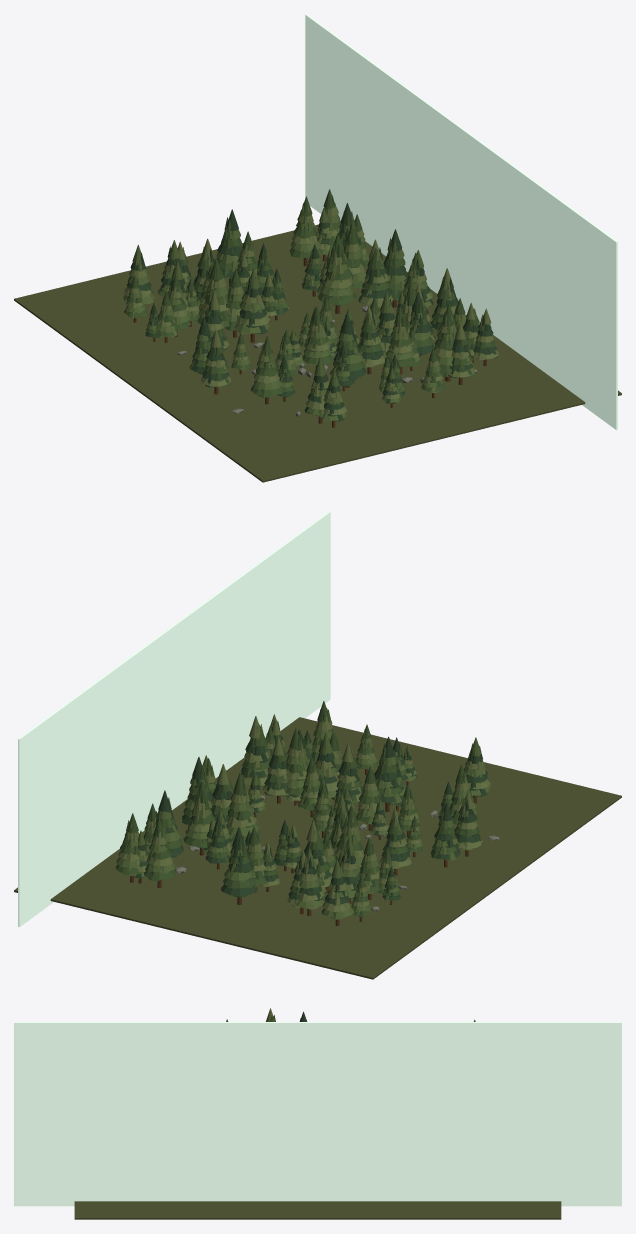
Rendered from Poetry_Forest.fbx.
3 views of the same model, one above another, from view 1: azimuth 30°, elevation 25°; view 2: azimuth 150°, elevation 25°; view 3: azimuth 270°, elevation 25° (orthographic). The views are drawn at different scales.
Visible parts, largest first — view 1: Forest distant haze.001, Forest floor.001, Forest pine 059.001, Forest pine 071.001, Forest pine 022.001, Forest pine 015.001, Forest pine 065.001, Forest pine 018.001, Forest pine 013.001, Forest pine 062.001, Forest pine 053.001, Forest pine 029.001 (+19 smaller); view 2: Forest distant haze.001, Forest floor.001, Forest pine 018.001, Forest pine 012.001, Forest pine 059.001, Forest pine 013.001, Forest pine 065.001, Forest pine 009.001, Forest pine 041.001, Forest pine 019.001, Forest pine 061.001, Forest pine 073.001 (+20 smaller); view 3: Forest distant haze.001, Forest floor.001.
Boxes of the visible parts, x1=… form: Forest distant haze.001: x1=305, y1=14, x2=617, y2=430; Forest floor.001: x1=14, y1=224, x2=621, y2=482; Forest pine 059.001: x1=317, y1=233, x2=356, y2=313; Forest pine 071.001: x1=234, y1=268, x2=270, y2=342; Forest pine 022.001: x1=358, y1=239, x2=393, y2=307; Forest pine 015.001: x1=251, y1=335, x2=282, y2=404; Forest pine 065.001: x1=289, y1=196, x2=321, y2=266; Forest pine 018.001: x1=216, y1=209, x2=242, y2=286; Forest pine 013.001: x1=330, y1=313, x2=365, y2=387; Forest pine 062.001: x1=200, y1=329, x2=230, y2=394; Forest pine 053.001: x1=383, y1=229, x2=407, y2=307; Forest pine 029.001: x1=385, y1=307, x2=415, y2=374; Forest distant haze.001: x1=18, y1=511, x2=330, y2=927; Forest floor.001: x1=14, y1=717, x2=621, y2=979; Forest pine 018.001: x1=220, y1=827, x2=258, y2=904; Forest pine 012.001: x1=241, y1=716, x2=270, y2=787; Forest pine 059.001: x1=226, y1=773, x2=261, y2=843; Forest pine 013.001: x1=374, y1=736, x2=402, y2=811; Forest pine 065.001: x1=143, y1=818, x2=175, y2=888; Forest pine 009.001: x1=183, y1=780, x2=215, y2=855; Forest pine 041.001: x1=321, y1=859, x2=354, y2=926; Forest pine 019.001: x1=285, y1=728, x2=308, y2=803; Forest pine 061.001: x1=296, y1=848, x2=324, y2=915; Forest pine 073.001: x1=430, y1=803, x2=460, y2=867; Forest distant haze.001: x1=14, y1=1022, x2=621, y2=1206; Forest floor.001: x1=74, y1=1201, x2=561, y2=1219.
Size of the model in its own units: 40 by 20 by 60.
